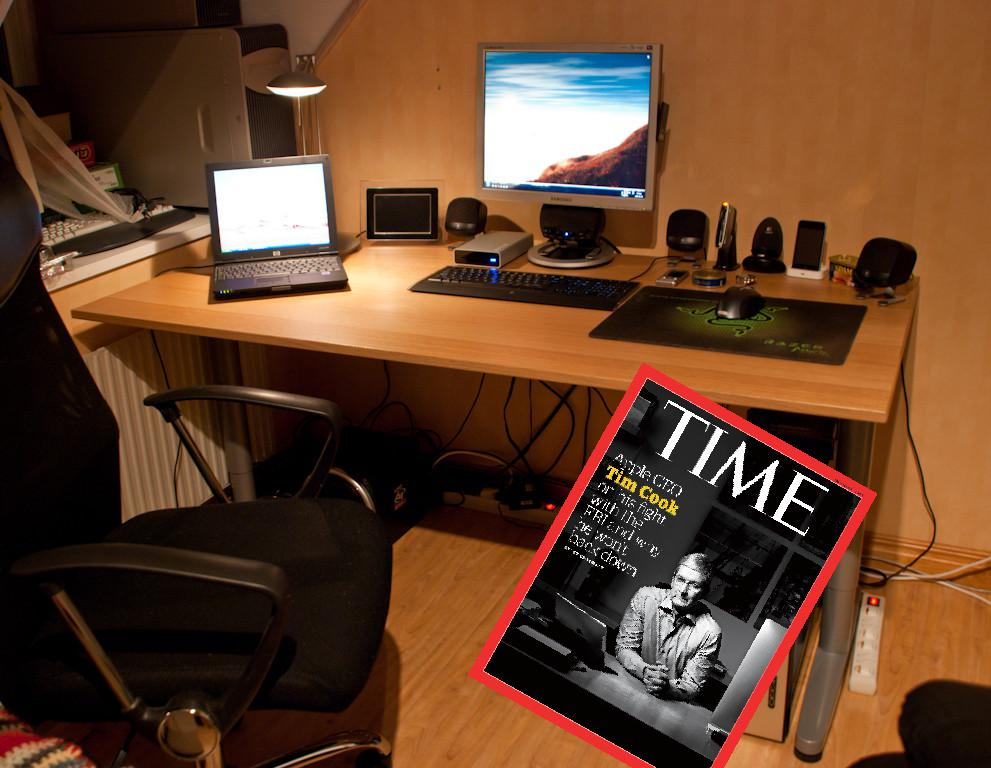times: (464, 361, 875, 768)
